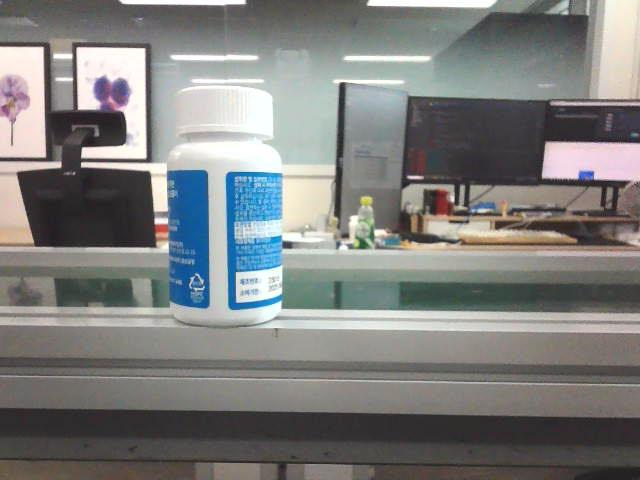labeled: (163, 80, 288, 331)
